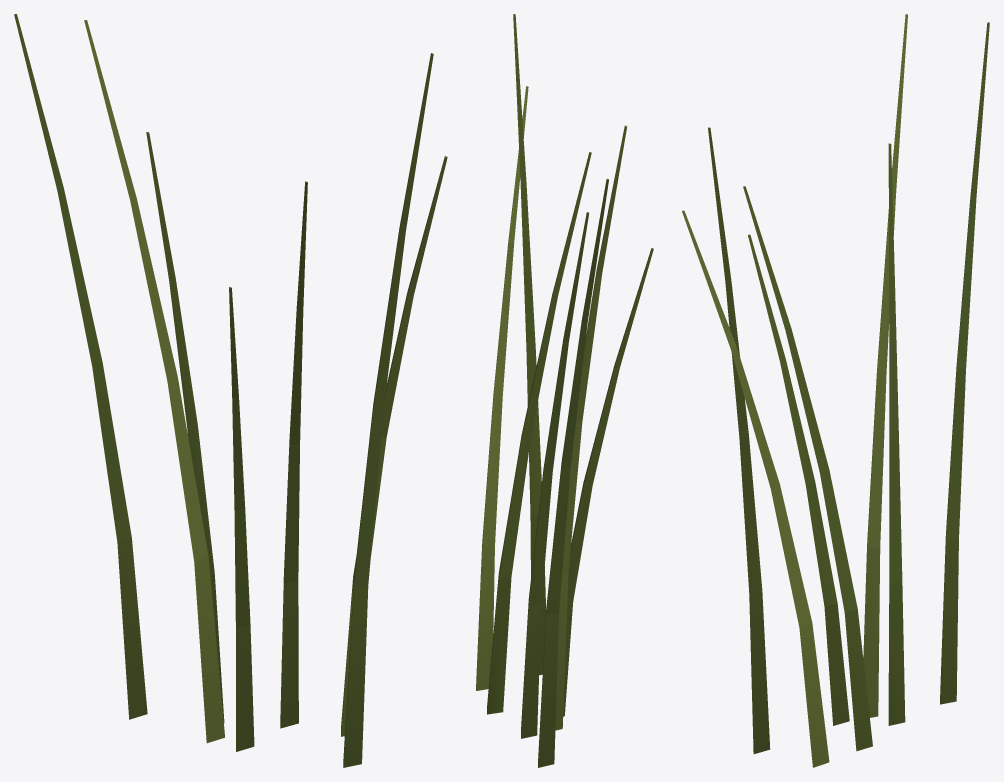
Rendered from reeds_a_low.glb.
3 renders of one model, left to right at view 1: azimuth 30°, elevation 25°; view 2: azimuth 150°, elevation 25°; view 3: azimuth 270°, elevation 25°, orthographic. The views are drawn at different scales.
Bounding box in the file's own units: 0.4945 × 1.3 × 0.5536.
